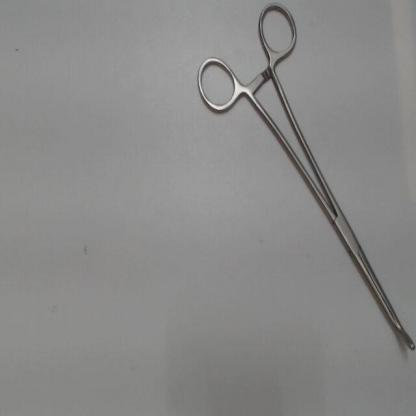Lahey Forceps: (191, 0, 414, 356)
